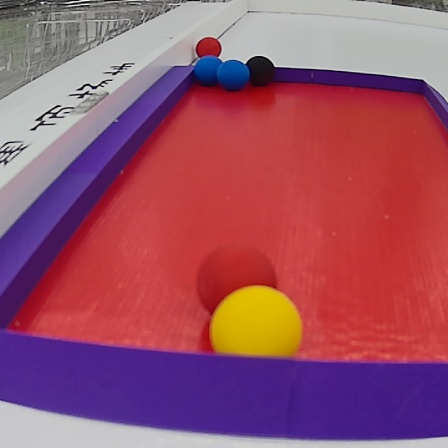black: (246, 49, 277, 86)
blue: (213, 58, 251, 94), (193, 53, 218, 87)
red: (198, 246, 281, 322), (193, 34, 223, 63)
red_aim: (2, 60, 448, 445)
yellow: (208, 282, 305, 377)
